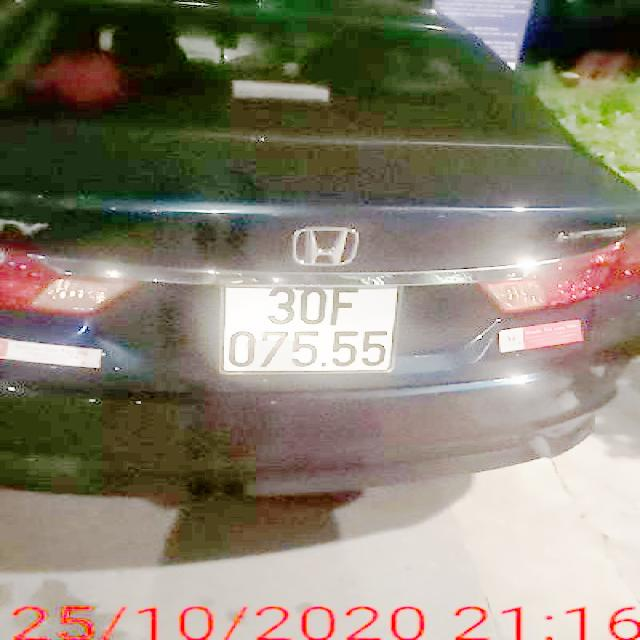license_plate: (221, 285, 401, 375)
